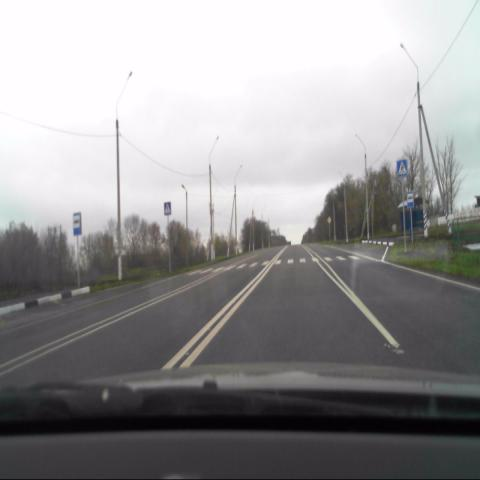5_16: (72, 212, 82, 236), (406, 191, 414, 208)
5_19_1: (398, 159, 408, 177), (163, 200, 172, 215)
